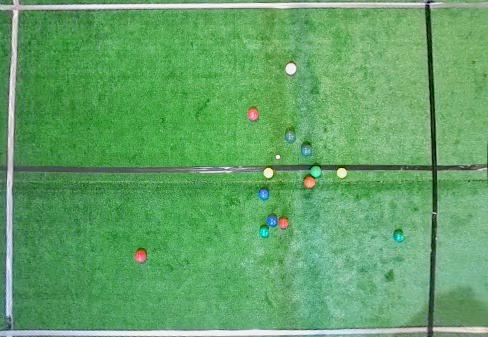blue: (258, 189, 269, 201), (266, 216, 277, 228)
green: (310, 166, 322, 178), (301, 144, 312, 156), (285, 131, 296, 142), (259, 227, 269, 239), (394, 231, 404, 243)
red: (303, 178, 316, 190), (285, 63, 297, 75), (135, 251, 146, 264), (248, 108, 259, 121), (278, 219, 288, 230)
vline: (424, 0, 487, 337), (0, 0, 21, 337)
white: (276, 155, 280, 159)
yellow: (263, 168, 273, 179), (337, 168, 347, 179)
